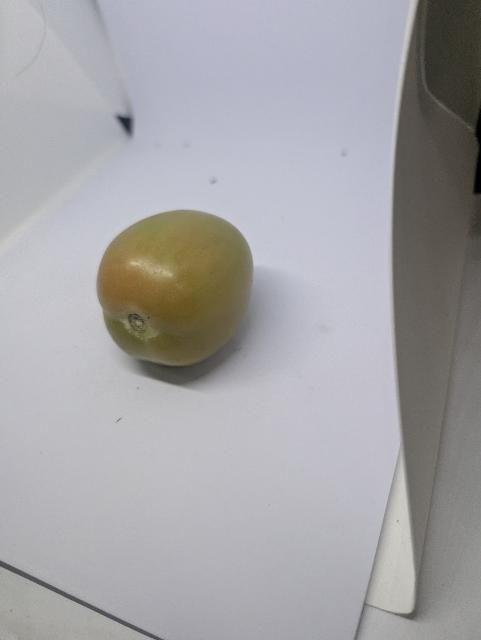breaker: (94, 209, 261, 372)
